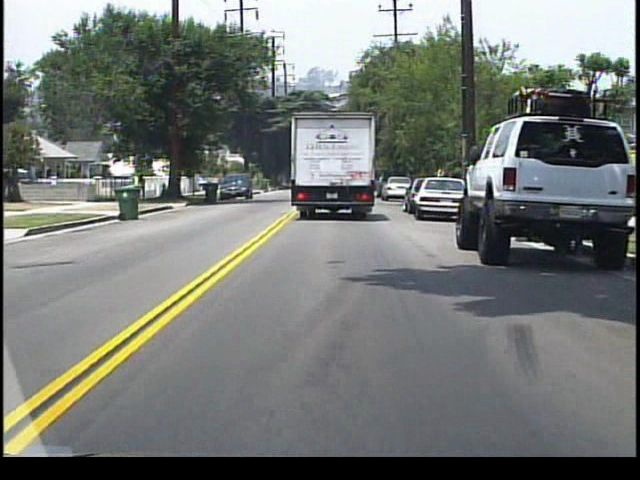person: (137, 171, 148, 200)
